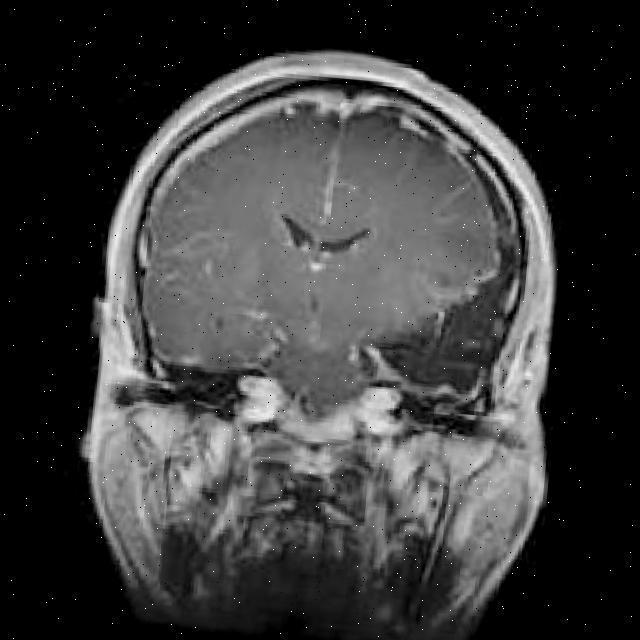EMCI: (196, 247, 317, 359)
